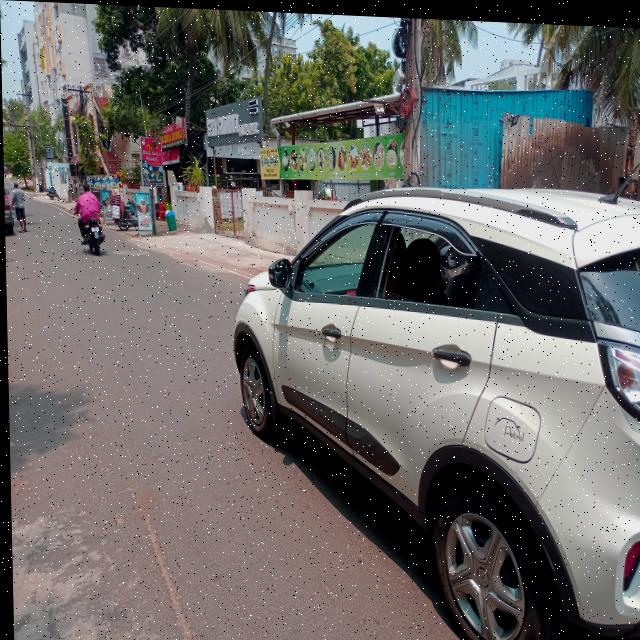car: (222, 165, 640, 640)
